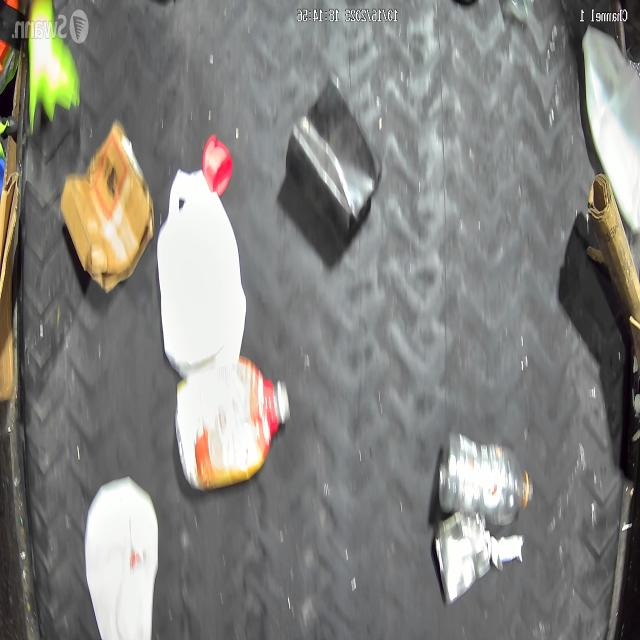can: (434, 514, 490, 606)
milk_jug: (156, 170, 247, 377), (580, 22, 640, 232), (83, 476, 159, 640)
plastic_bottle: (438, 431, 534, 526)
